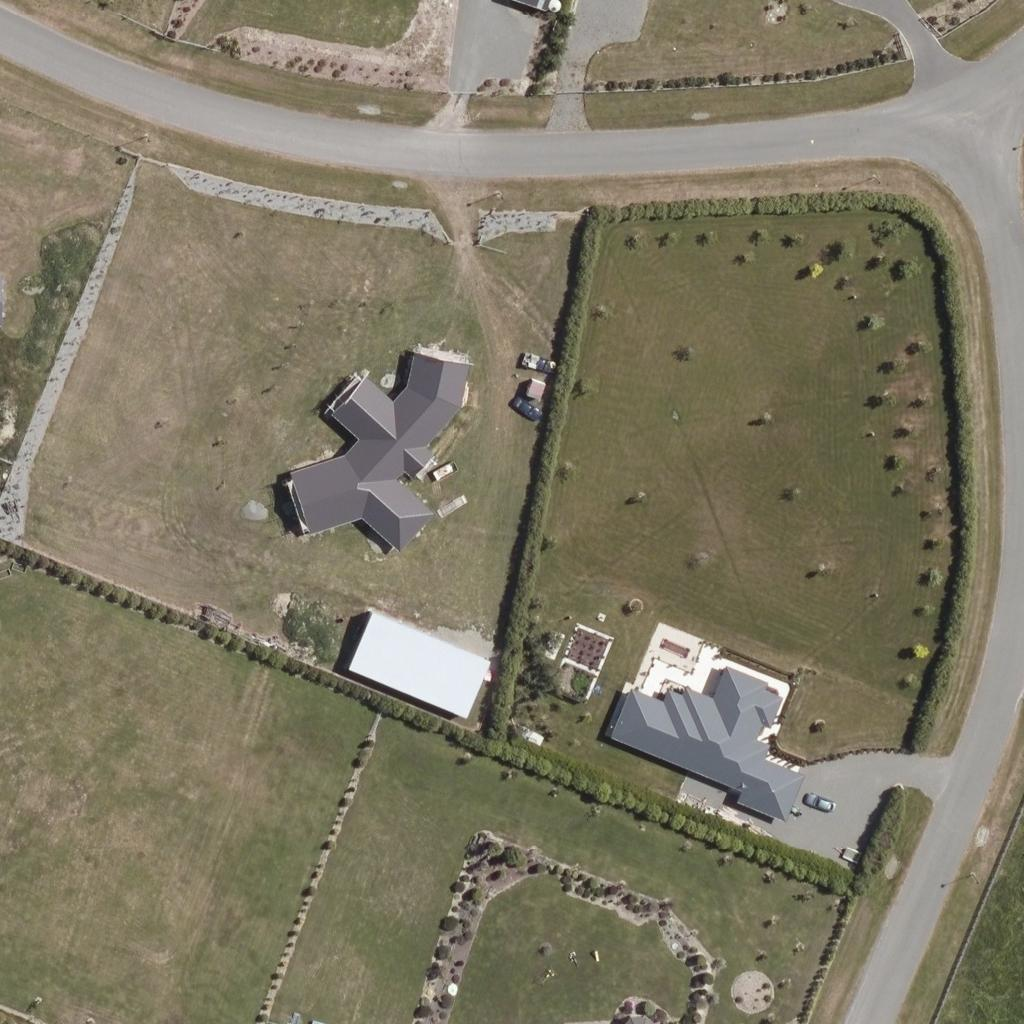car: (523, 346, 557, 380), (510, 391, 544, 425), (802, 785, 836, 819)
